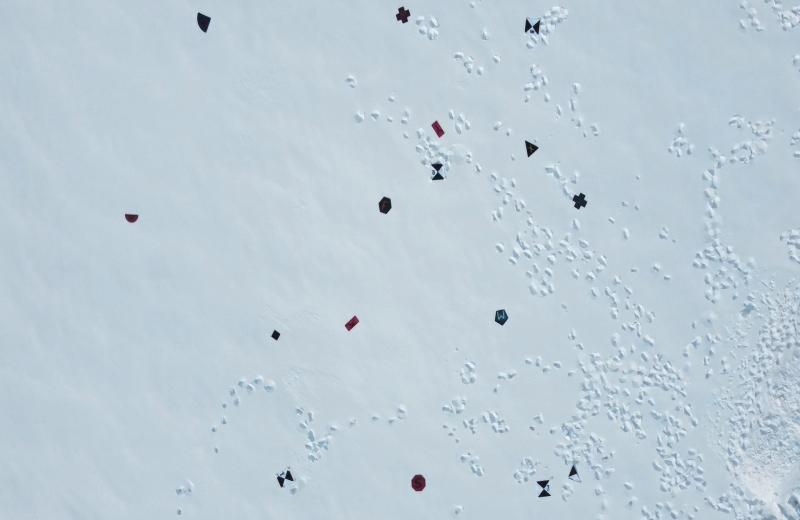Cross: (572, 192, 588, 210), (396, 6, 411, 24)
Hexagon: (378, 194, 392, 214)
Octagon: (410, 473, 426, 492)
Pentagon: (493, 308, 508, 325)
Quarter Circle: (196, 10, 212, 36)
Rectangle: (344, 314, 360, 332), (431, 120, 446, 139)
Semi Circle: (124, 213, 139, 224)
Square: (271, 329, 281, 342)
Triangle: (524, 139, 539, 158)
